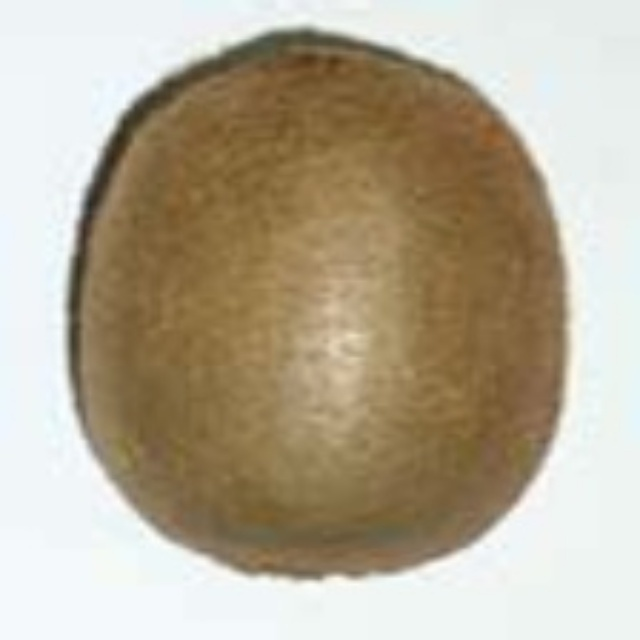kiwi: (72, 38, 573, 578)
